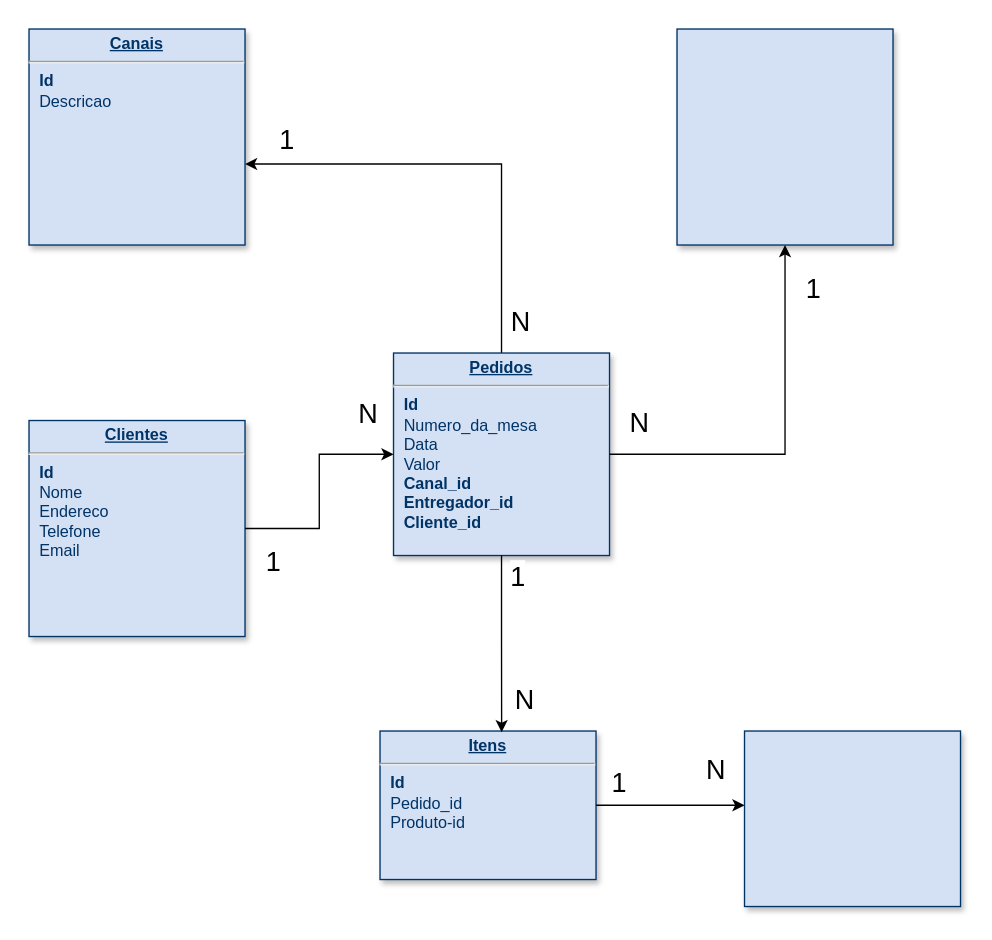
This 992x940 diagram has some shape labels left out. Here are the shapes that lost their labels. From the top down, the centre of each, then its label:
At pixel 785 138: "Entregador Id Nome Veiculo".
At pixel 853 820: "Produtos Id Descricao Tamanho Sabor Valor".
